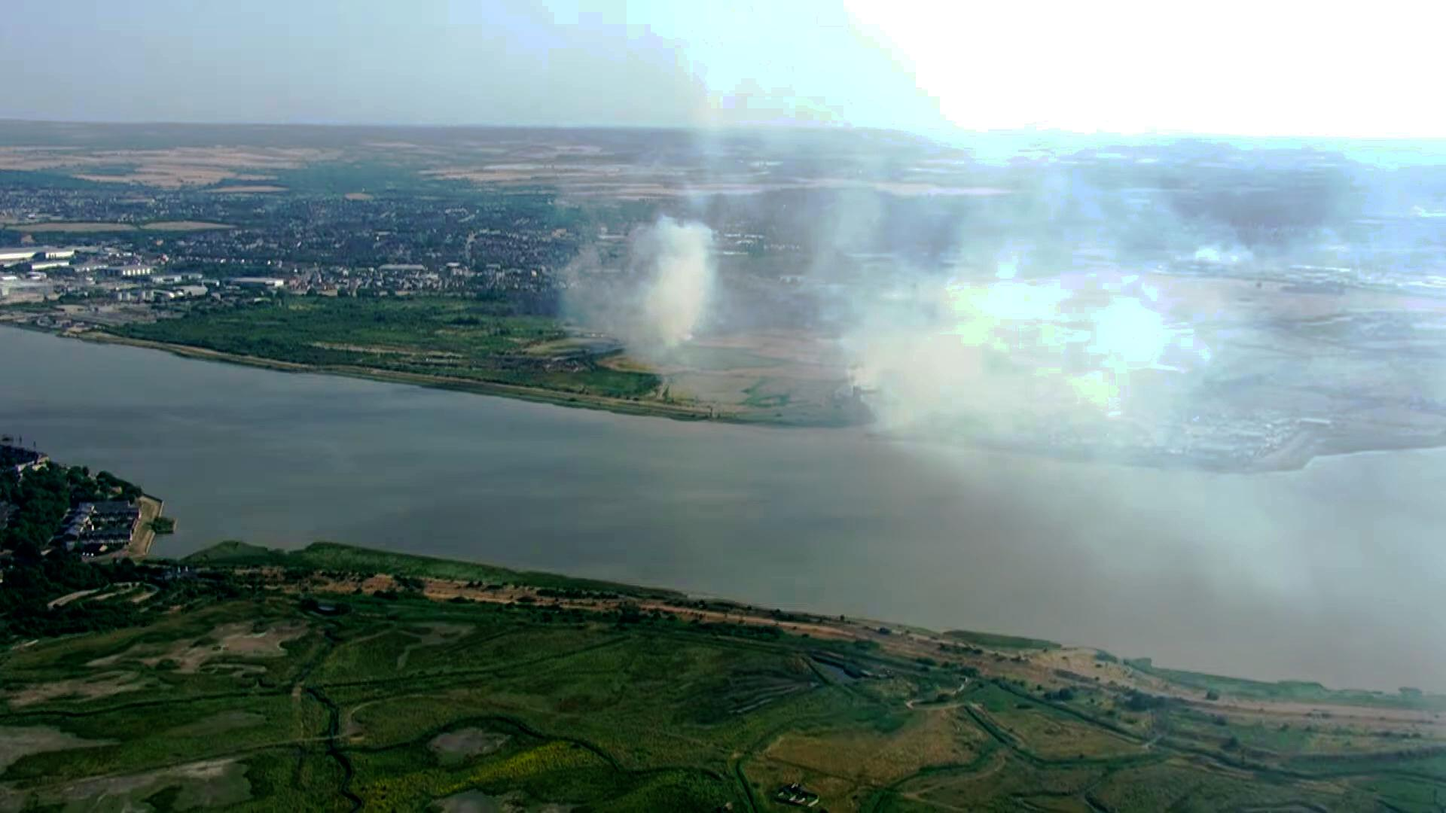smoke: (932, 275, 1084, 449), (629, 211, 728, 309)
